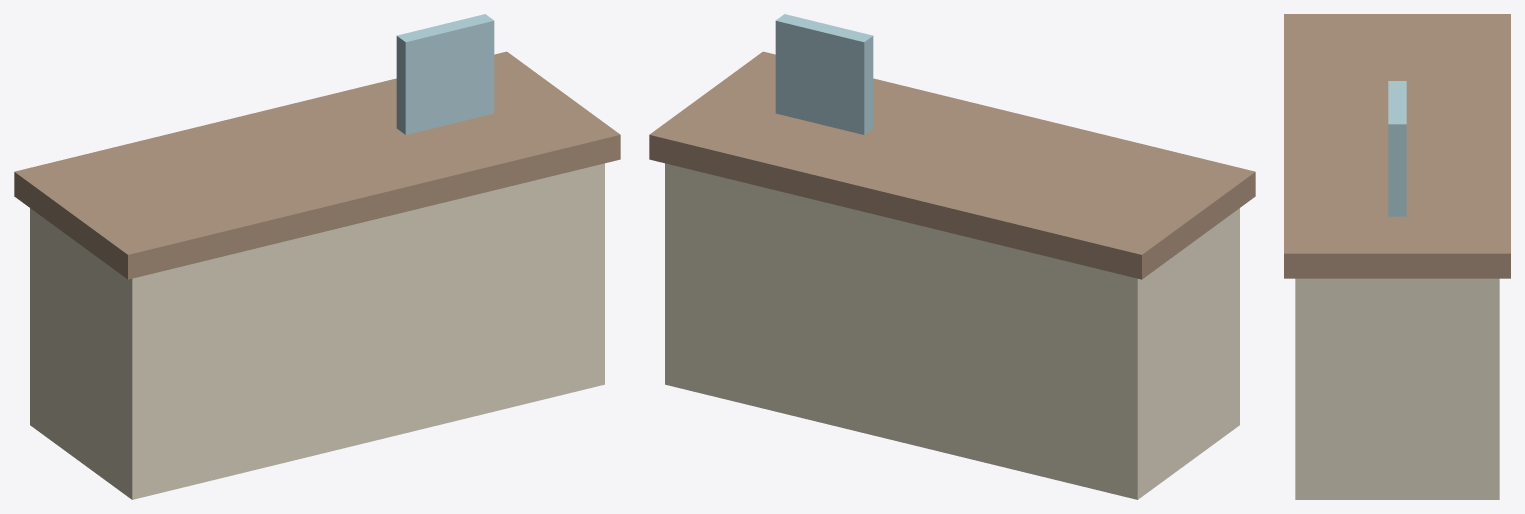
File: resort_desk.glb
The picture shows the model from 3 angles, left to right: view 1: azimuth 30°, elevation 25°; view 2: azimuth 150°, elevation 25°; view 3: azimuth 270°, elevation 25°; orthographic projection.
Visible parts, largest first — view 1: part_00, part_01, part_02; view 2: part_00, part_01, part_02; view 3: part_01, part_00, part_02.
Part boxes in pixels (x1,y1,x2,y2): part_00: (30,163,604,499); part_01: (14,51,620,279); part_02: (396,14,494,134); part_00: (665,163,1239,499); part_01: (649,51,1255,279); part_02: (775,14,873,134); part_01: (1284,14,1510,278); part_00: (1295,278,1499,499); part_02: (1388,81,1406,216).
Bounding box in the file's own units: 2.5 × 1.67 × 1.
